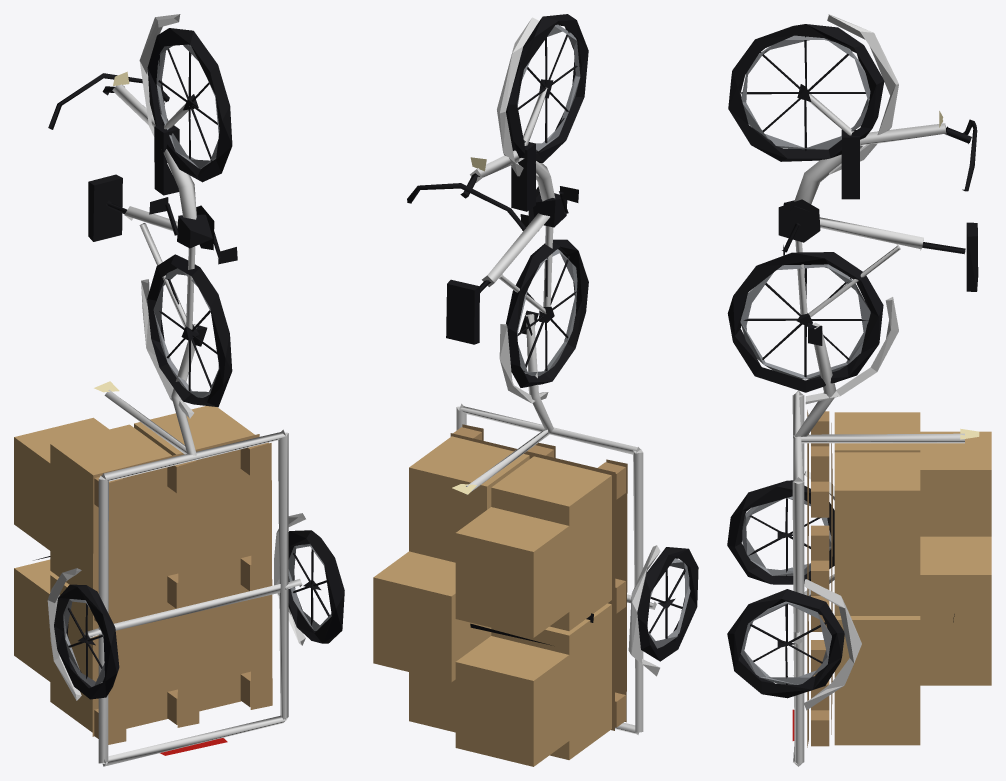
The model's file is SolarpunkCargoBikePallet01_LOD1.fbx.
3 renders of one model, left to right at view 1: azimuth 30°, elevation 25°; view 2: azimuth 150°, elevation 25°; view 3: azimuth 270°, elevation 25°, orthographic.
Parts seen in each view (by area): view 1: SolarpunkCargoBikePallet01_LOD1; view 2: SolarpunkCargoBikePallet01_LOD1; view 3: SolarpunkCargoBikePallet01_LOD1.
Part boxes in pixels (box(x1,y1,x2,y2)): SolarpunkCargoBikePallet01_LOD1: box(14, 14, 344, 766); SolarpunkCargoBikePallet01_LOD1: box(373, 14, 698, 766); SolarpunkCargoBikePallet01_LOD1: box(727, 14, 991, 766).
Bounding box in the file's own units: 114 × 330 × 111.
Materials: 1 (1 with a texture image).
